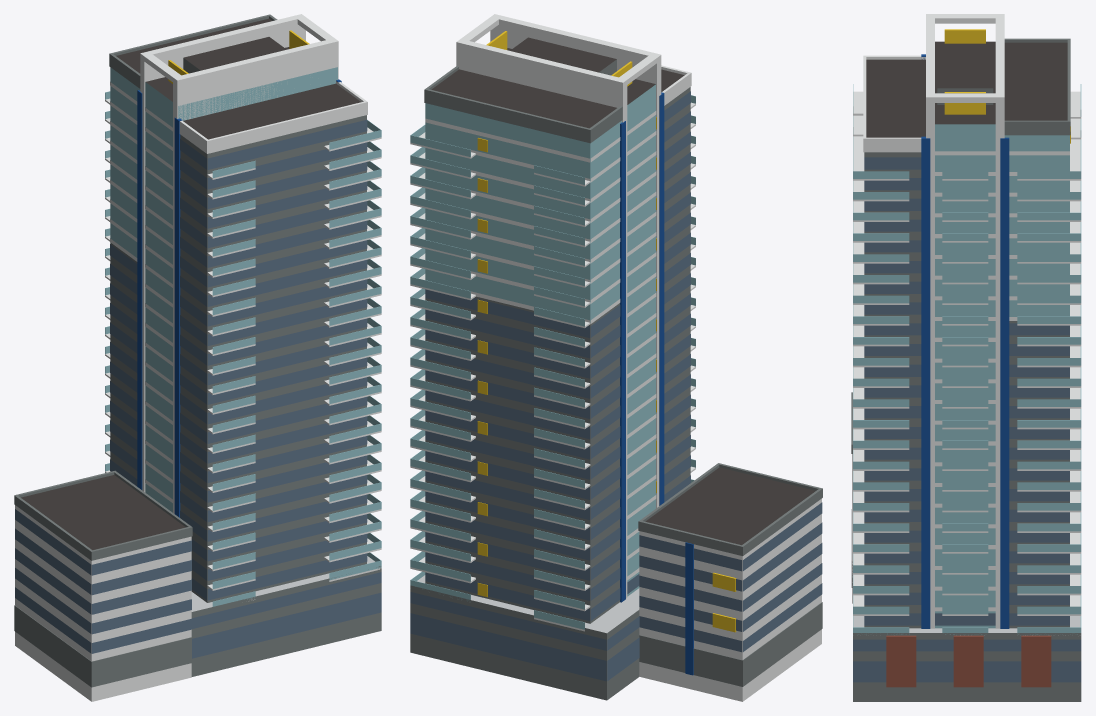
Rendered from br_b262_holyrood_gardens.gltf.
3 views of the same model, side by side, from view 1: azimuth 30°, elevation 25°; view 2: azimuth 150°, elevation 25°; view 3: azimuth 270°, elevation 25° (orthographic). The views are drawn at different scales.
Visible parts, largest first — view 1: br_b262_holyrood_gardens; view 2: br_b262_holyrood_gardens; view 3: br_b262_holyrood_gardens.
Boxes of the visible parts, bbox=[...] form: br_b262_holyrood_gardens: bbox=[14, 14, 381, 701]; br_b262_holyrood_gardens: bbox=[410, 14, 822, 701]; br_b262_holyrood_gardens: bbox=[851, 14, 1081, 701].
Size of the model in its own units: 47.72 by 88.3 by 30.69.
